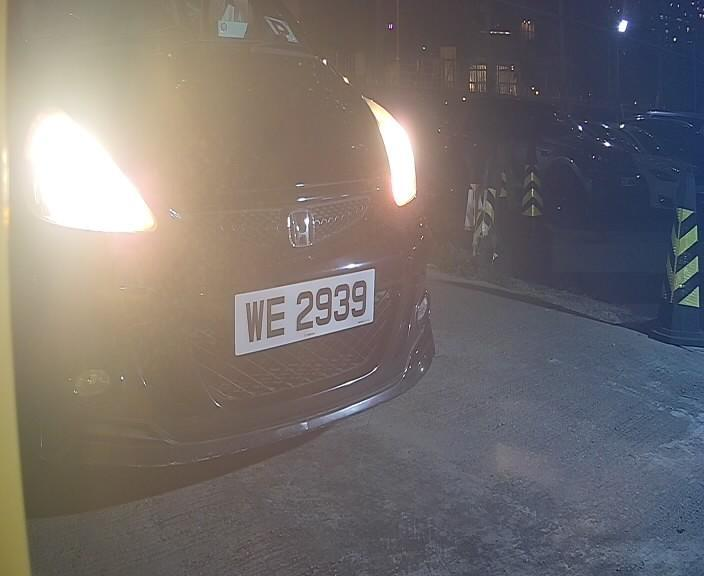privatecar: (7, 19, 463, 489)
